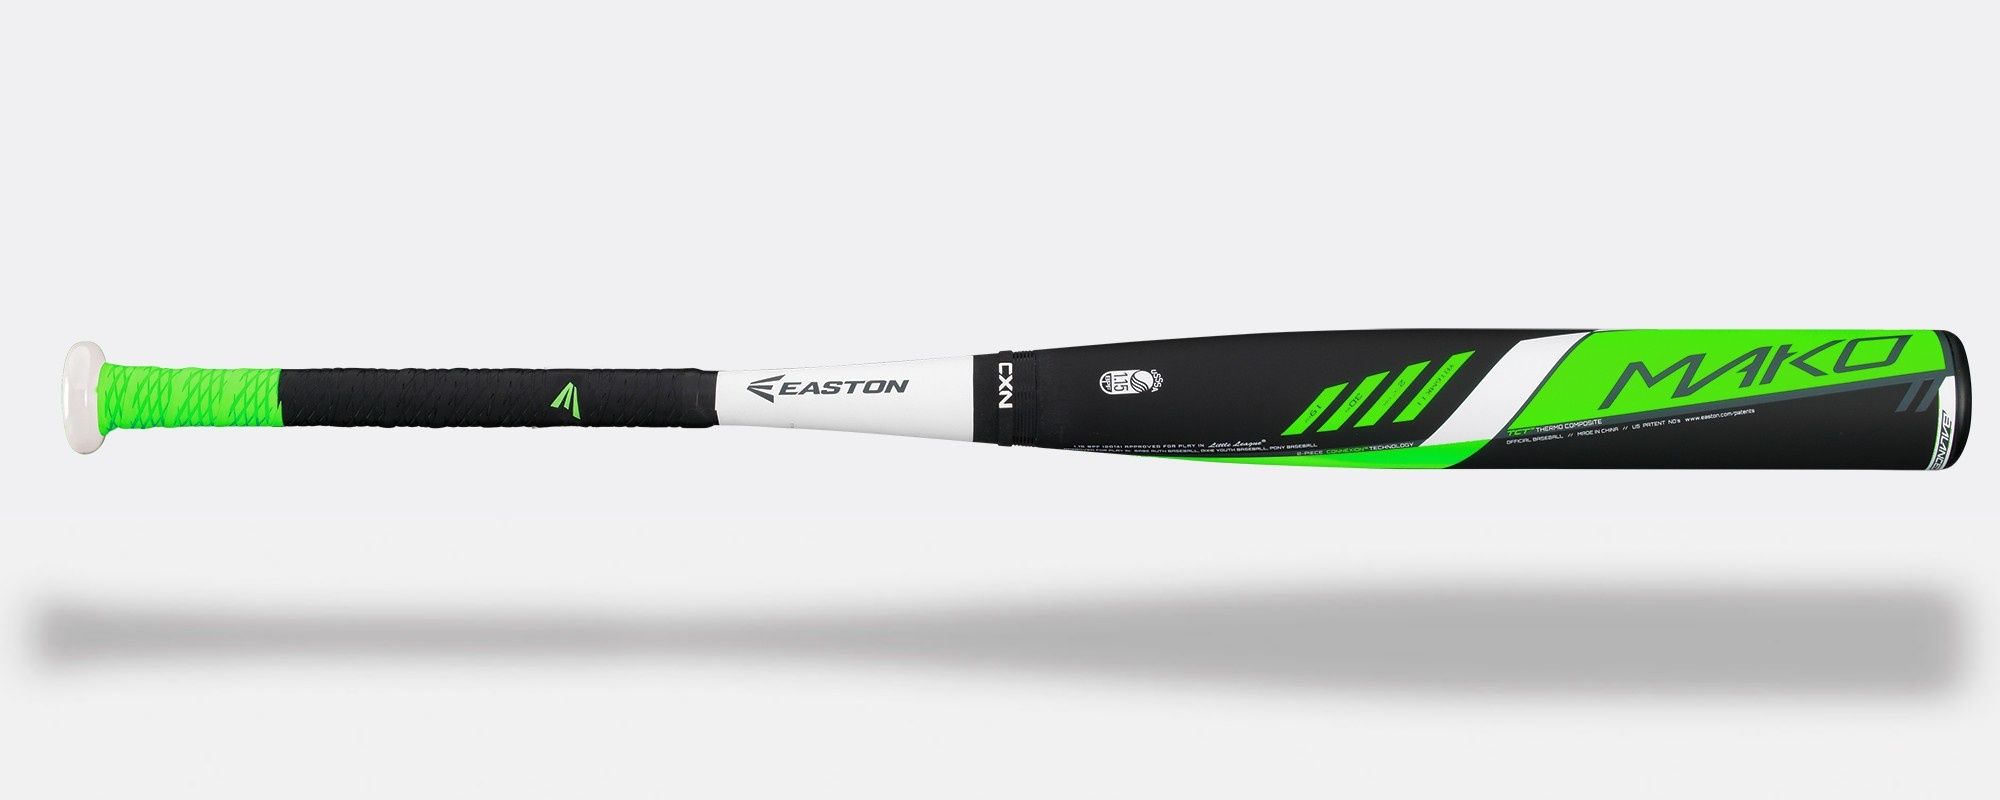bita: (68, 325, 1960, 487)
